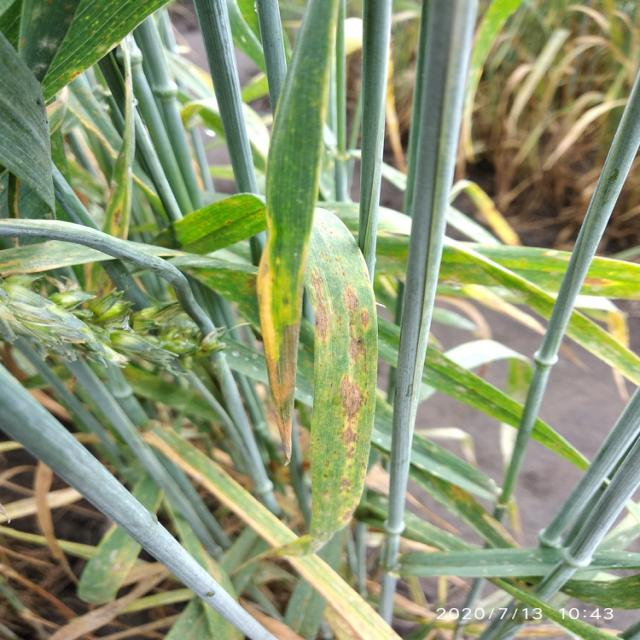wheat-septoria: (264, 322, 300, 467), (307, 266, 334, 344), (338, 373, 368, 422), (347, 319, 367, 363), (340, 285, 358, 312), (341, 427, 361, 447), (339, 502, 357, 522), (584, 277, 612, 287), (245, 278, 258, 297), (360, 307, 368, 328), (339, 478, 351, 492), (115, 211, 121, 225)
